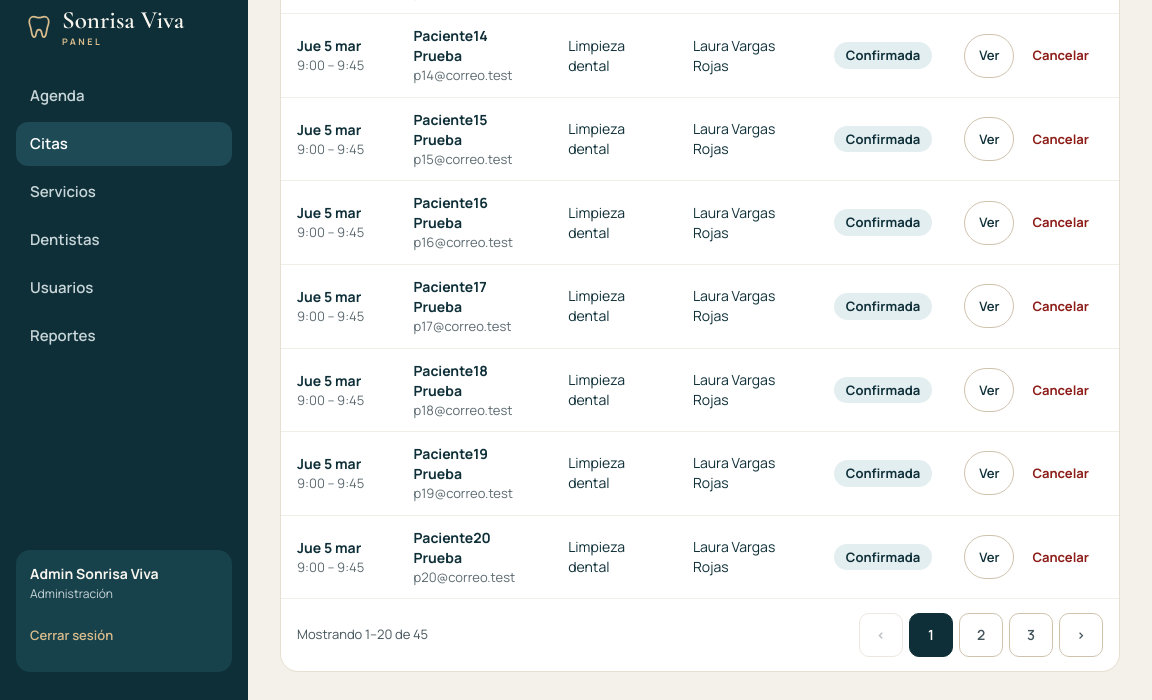
Lista de citas › lista citas paginadas y muestra el rango
The image size is (1152, 700).
(page scrolled)
Expected: the text "Mostrando 1–20 de 45" is shown, [297,625,428,645]
What coordinates should you click on to do the following:
click the button named "Página siguiente"
I would click on:
 (1081, 635)
Its box is [1059,613,1103,657].
(page scrolled)
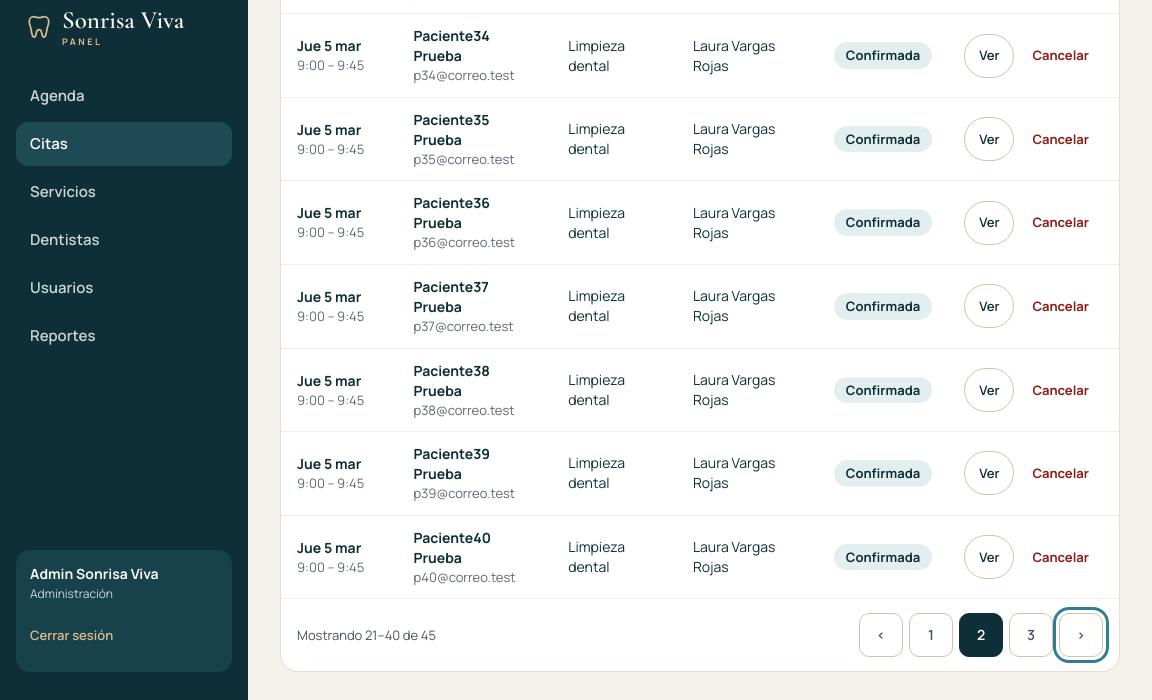
Expected: the text "Mostrando 21–40 de 45" is shown, [297,626,436,645]
